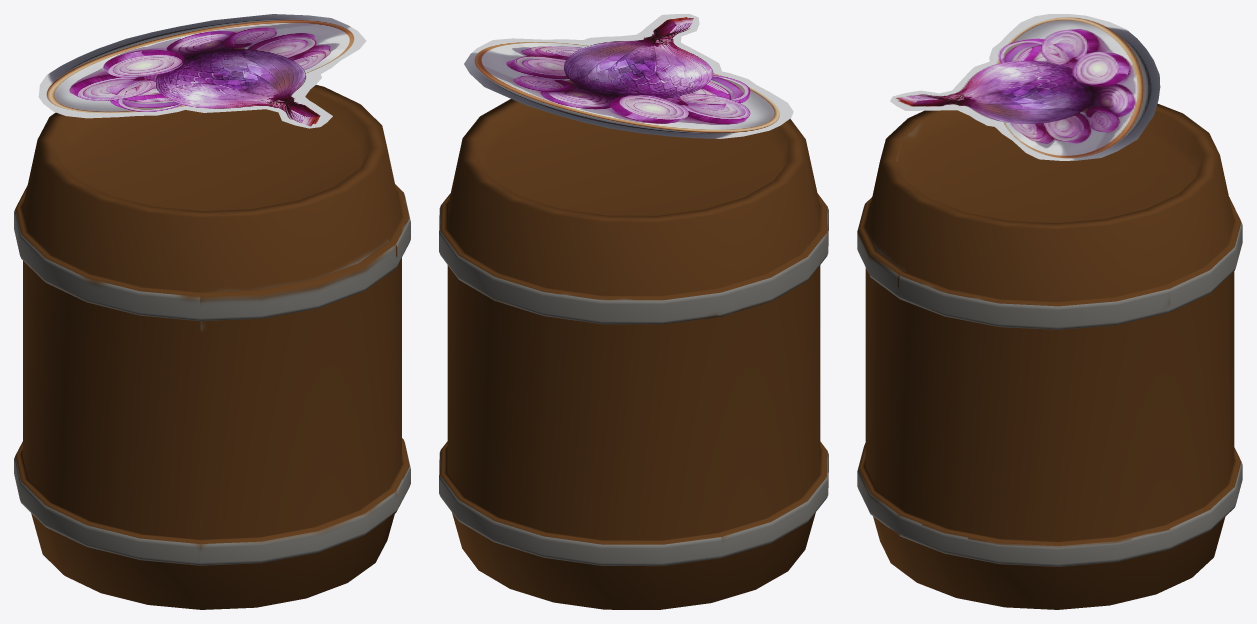
The model's file is Ingredientes_9_LagrimasdeSirena.fbx.
3 renders of one model, left to right at view 1: azimuth 30°, elevation 25°; view 2: azimuth 150°, elevation 25°; view 3: azimuth 270°, elevation 25°, orthographic. The views are drawn at different scales.
Parts seen in each view (by area): view 1: Barril_mesh, MK_Ingredientes_9_LagrimasdeSirena; view 2: Barril_mesh, MK_Ingredientes_9_LagrimasdeSirena; view 3: Barril_mesh, MK_Ingredientes_9_LagrimasdeSirena.
Boxes of the visible parts, x1,y1,x2,y2 form: Barril_mesh: (14,85,410,609); MK_Ingredientes_9_LagrimasdeSirena: (38,14,366,128); Barril_mesh: (439,99,828,609); MK_Ingredientes_9_LagrimasdeSirena: (464,14,793,138); Barril_mesh: (857,103,1242,609); MK_Ingredientes_9_LagrimasdeSirena: (890,14,1160,160).
Size of the model in its own units: 1.84 by 2.36 by 1.84.
2 materials, 2 textured.
